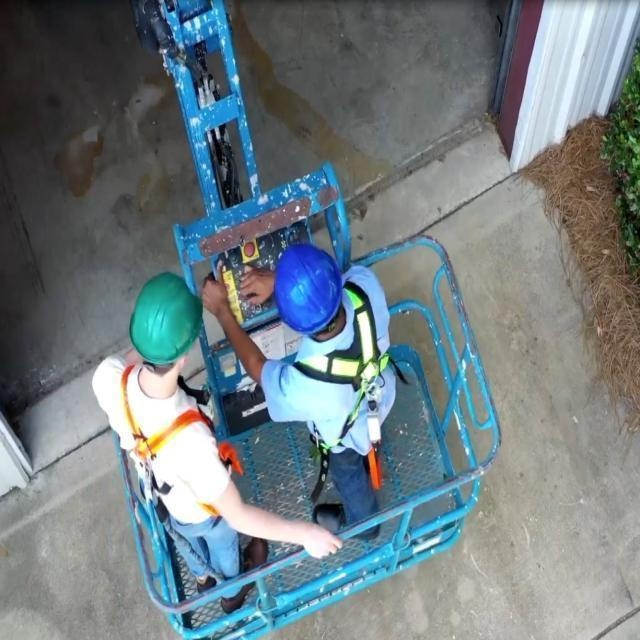Arnes_seguridad: (288, 283, 393, 464), (120, 362, 234, 513)
